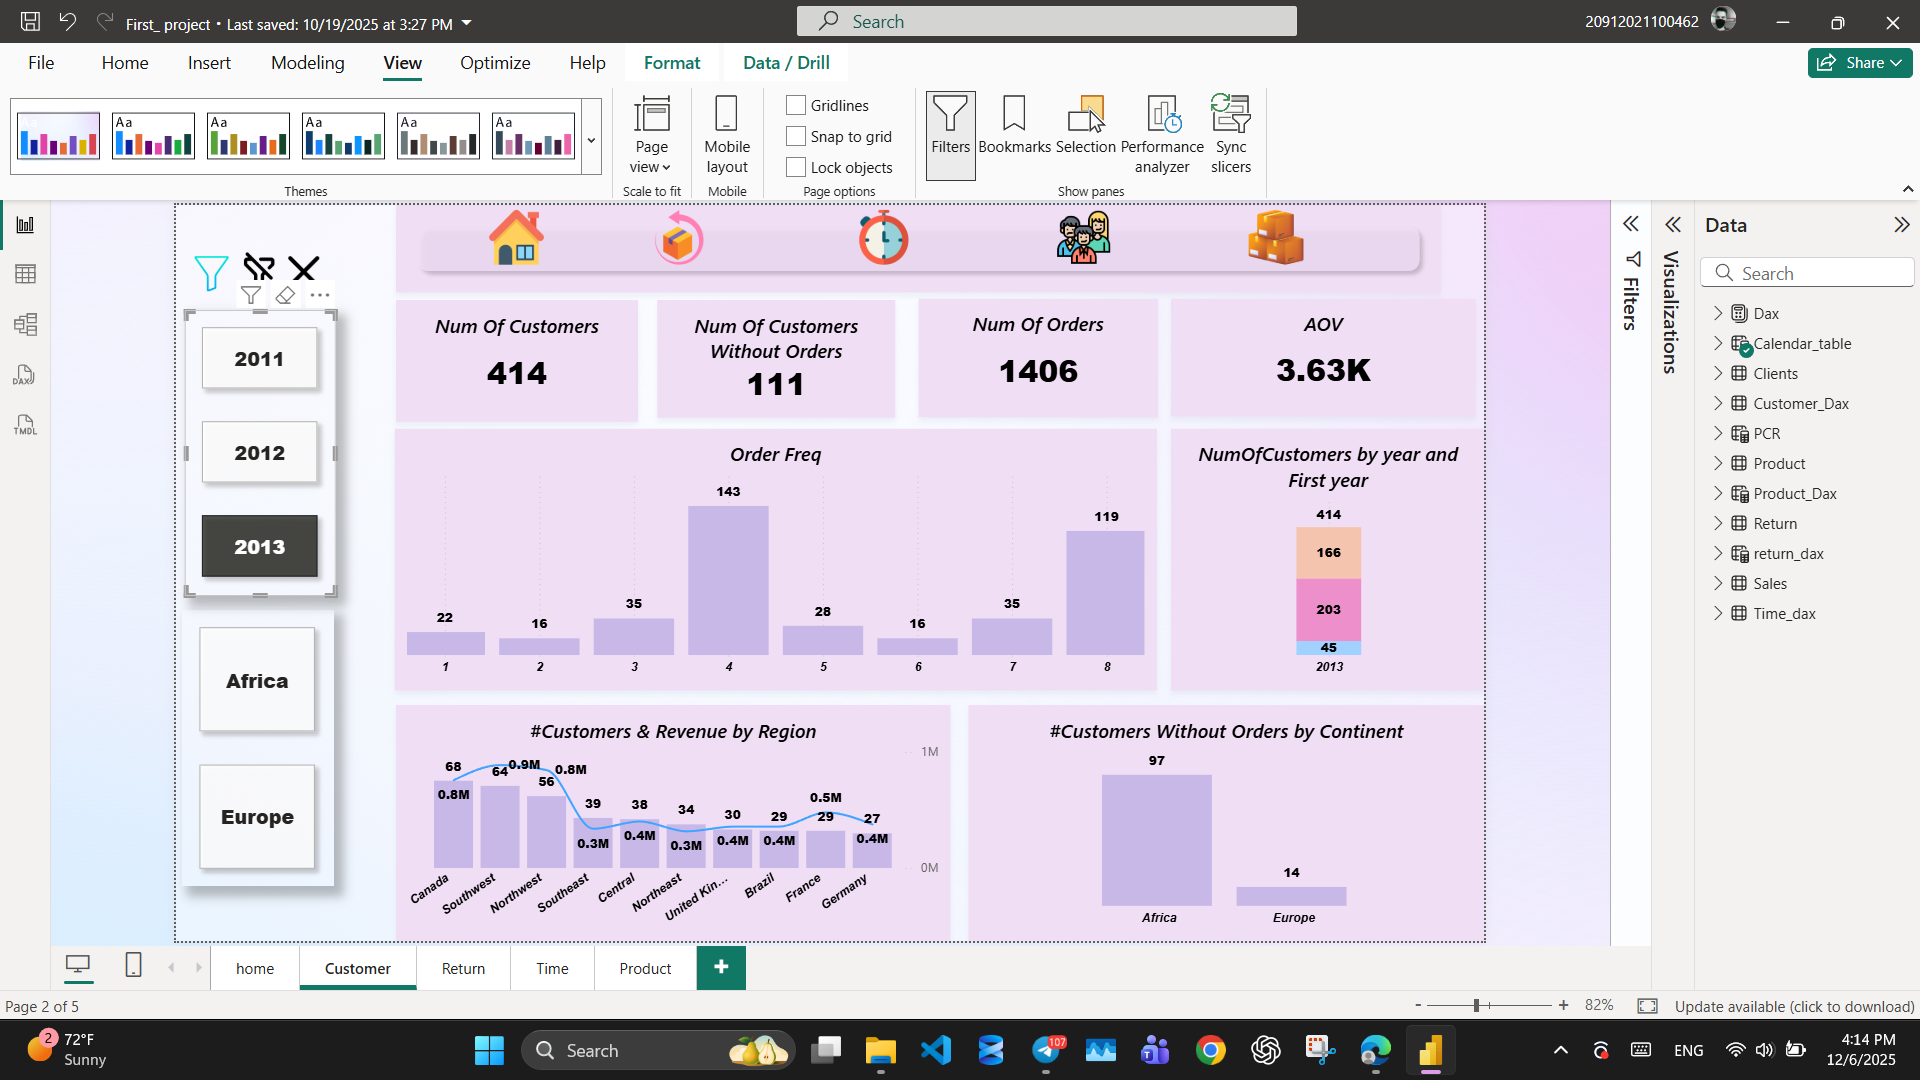

This screenshot's page, from the dashboard's own definition file:
{"tool":"powerbi","page":{"name":"Customer","canvas":[1280,720],"ordinal":1},"visuals":[{"type":"advancedSlicerVisual","fields":{"Values":["Calendar_table.year"]},"box":[8.6,102.7,148,280],"z":0},{"type":"advancedSlicerVisual","fields":{"Values":["Clients.Continent"]},"box":[6.1,396.2,148,270.2],"z":1000},{"type":"shape","box":[215.2,0,1022.3,85.6],"z":2000},{"type":"image","box":[95.4,45.2,58.7,40.4],"z":3000},{"type":"image","box":[50.1,41.6,62.4,50.1],"z":4000},{"type":"image","box":[0,45.2,69.7,44],"z":5000},{"type":"image","box":[275.6,0,116.7,63.3],"z":6000},{"type":"image","box":[815.6,0,145.5,63.6],"z":7000},{"type":"image","box":[624.4,0,135.3,63.3],"z":8000},{"type":"image","box":[430.4,0,124.7,63.6],"z":9000},{"type":"image","box":[1015.4,0,122.9,63.3],"z":10000},{"type":"card","title":"Num Of Customers","fields":{"Values":["Customer_Dax.NumOfCustomers"]},"box":[215.8,92.8,236.7,119],"z":11000},{"type":"card","title":"Num Of Customers Without Orders","fields":{"Values":["Customer_Dax.NumOfCustomers without orders"]},"box":[470.8,92.8,232.8,115.1],"z":12000},{"type":"card","title":"Num Of Orders","fields":{"Values":["Dax.NumOfOrders"]},"box":[725.8,91.5,234.1,116.4],"z":13000},{"type":"card","title":"AOV","fields":{"Values":["Customer_Dax.AoV"]},"box":[972.9,91.5,298.2,115.1],"z":14000},{"type":"lineClusteredColumnComboChart","title":"#Customers & Revenue by Region","fields":{"Category":["Clients.Region"],"Y":["Customer_Dax.NumOfCustomers"],"Y2":["Dax.total _revenue"]},"box":[215.8,489.1,542.7,231.5],"z":15000},{"type":"clusteredColumnChart","title":"Order Freq","fields":{"Category":["Clients.NumOfOrders for each Customer"],"Y":["Customer_Dax.NumOfCustomers"]},"box":[214.5,218.4,745.4,256.3],"z":16000},{"type":"clusteredColumnChart","title":"#Customers Without Orders by Continent","fields":{"Y":["Customer_Dax.NumOfCustomers without orders"],"Category":["Clients.Continent"]},"box":[775.5,489.1,504.8,231.5],"z":17000},{"type":"columnChart","fields":{"Y":["Customer_Dax.NumOfCustomers"],"Category":["Calendar_table.year"],"Series":["Clients.First year"]},"box":[972.9,218.4,307.3,256.3],"z":18000}]}

Visuals, with their boxes on the page's 1280x720 design canvas (x1, y1, x2, y2). These are canvas units, not pixel positions in the 1920x1080 screenshot, which may show the page scaled, cropped or inside an application window:
advancedSlicerVisual - Calendar_table.year: rect(9, 103, 157, 383)
advancedSlicerVisual - Clients.Continent: rect(6, 396, 154, 666)
shape: rect(215, 0, 1238, 86)
image: rect(95, 45, 154, 86)
image: rect(50, 42, 112, 92)
image: rect(0, 45, 70, 89)
image: rect(276, 0, 392, 63)
image: rect(816, 0, 961, 64)
image: rect(624, 0, 760, 63)
image: rect(430, 0, 555, 64)
image: rect(1015, 0, 1138, 63)
"Num Of Customers" card: rect(216, 93, 452, 212)
"Num Of Customers Without Orders" card: rect(471, 93, 704, 208)
"Num Of Orders" card: rect(726, 92, 960, 208)
"AOV" card: rect(973, 92, 1271, 207)
"#Customers & Revenue by Region" lineClusteredColumnComboChart: rect(216, 489, 758, 721)
"Order Freq" clusteredColumnChart: rect(214, 218, 960, 475)
"#Customers Without Orders by Continent" clusteredColumnChart: rect(776, 489, 1280, 721)
columnChart - Customer_Dax.NumOfCustomers x Calendar_table.year: rect(973, 218, 1280, 475)
